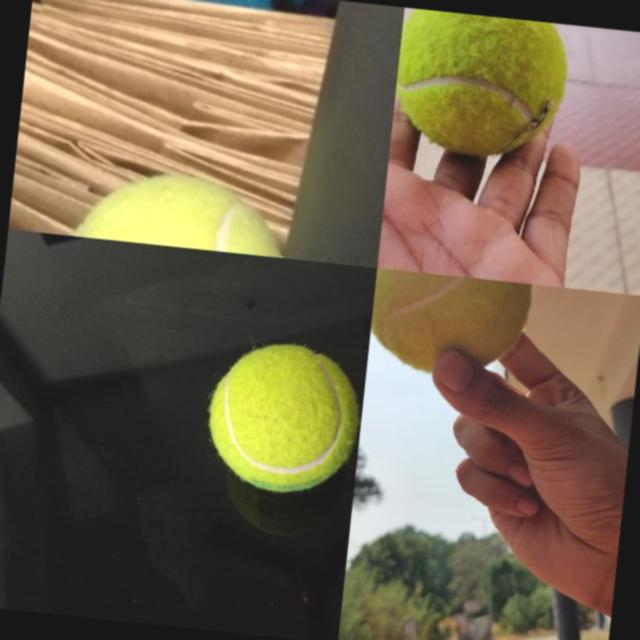Tennis Ball: (390, 7, 572, 166), (202, 336, 366, 498), (62, 162, 297, 258), (366, 268, 532, 382)
